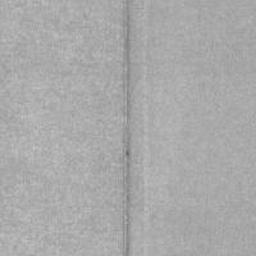Welding line: (122, 0, 132, 256)
